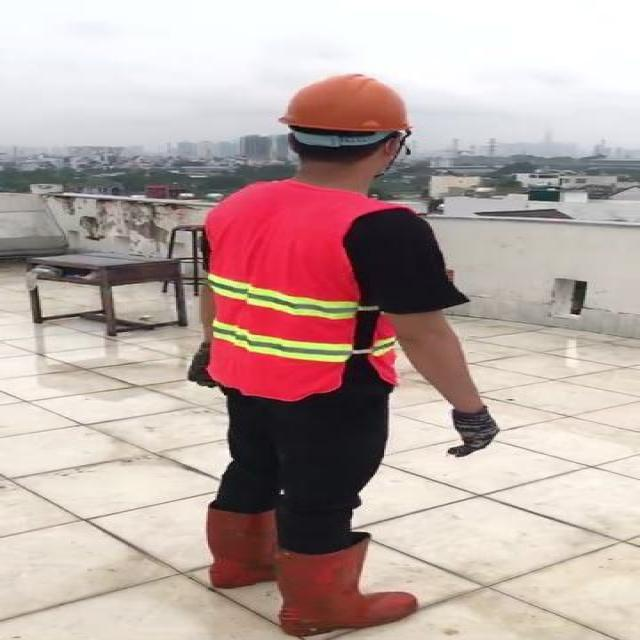boots: (266, 538, 418, 634), (201, 502, 274, 588)
hand_glove: (448, 407, 500, 459)
head_helmet: (275, 68, 417, 138)
person: (152, 63, 527, 640)
vest: (208, 179, 398, 398)
